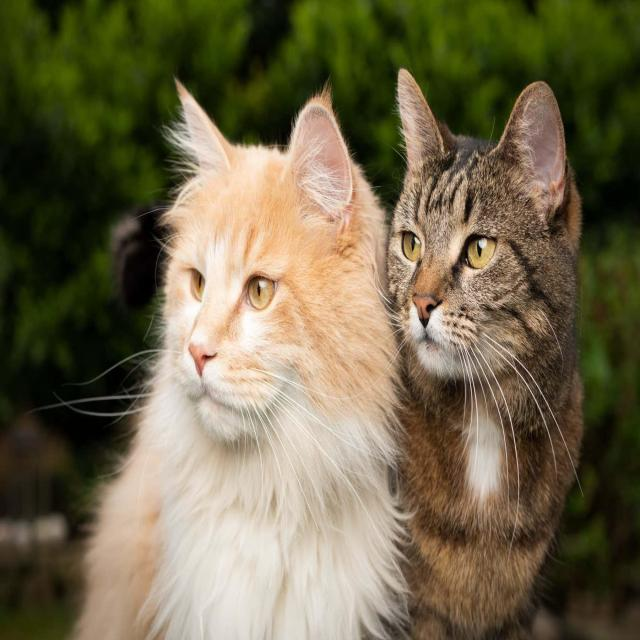cat: (26, 46, 628, 640)
